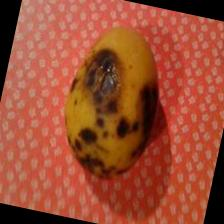Mango Overripe: (51, 16, 177, 182)
